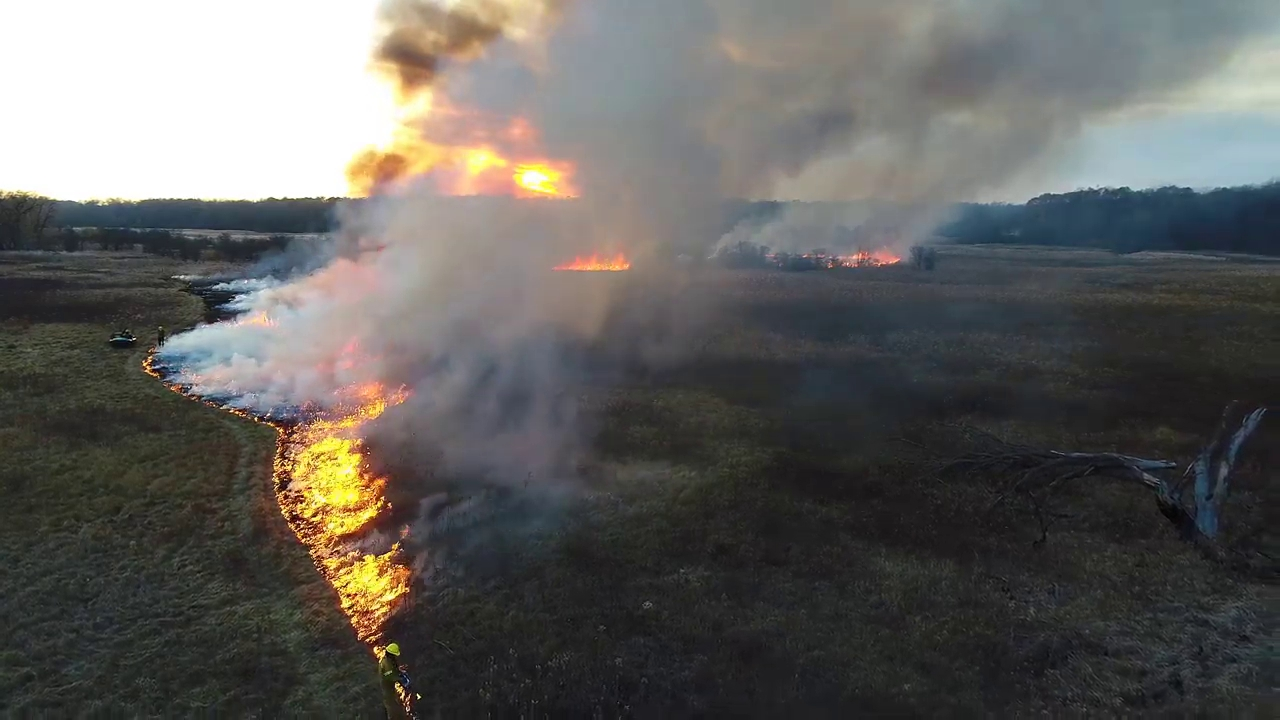forest_fire: (144, 349, 413, 653), (553, 254, 629, 271), (833, 251, 901, 266), (226, 312, 275, 327)
